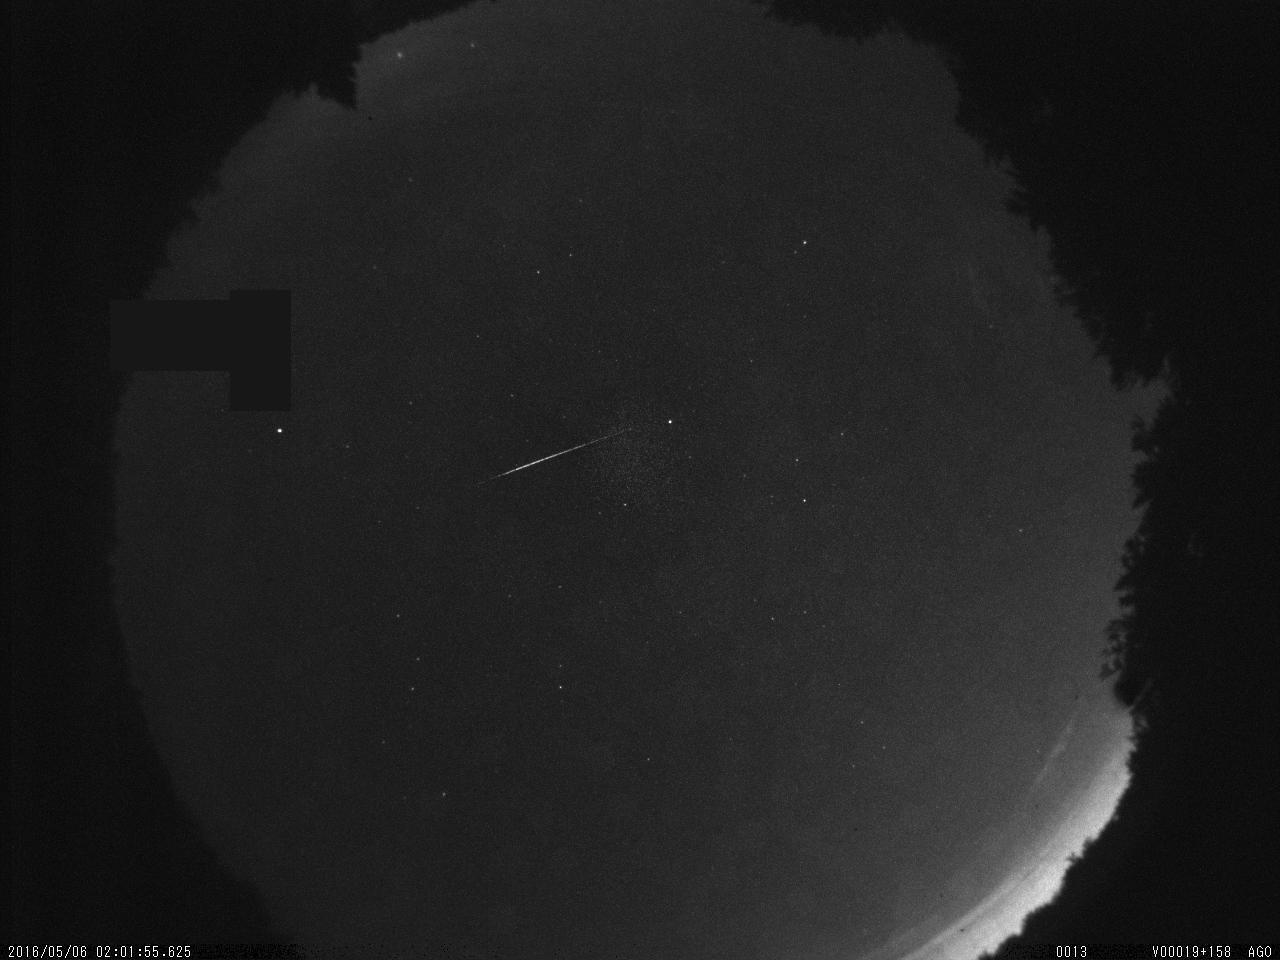meteor: (480, 414, 655, 489)
